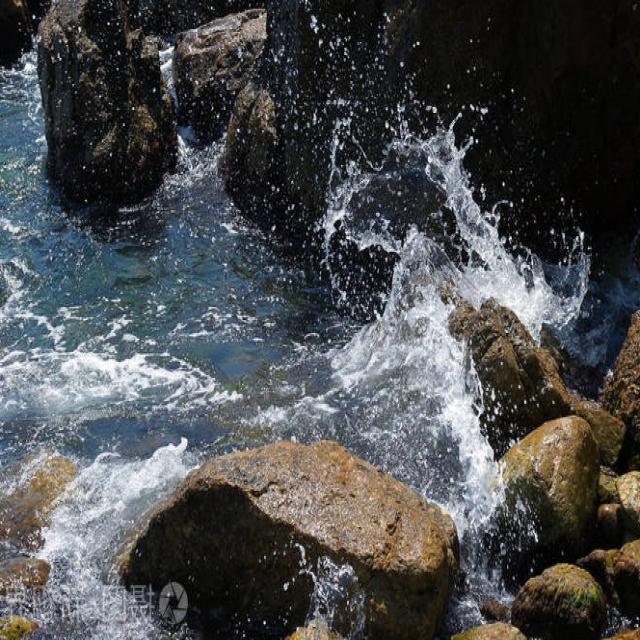reef: (138, 317, 554, 626), (9, 23, 250, 175)
